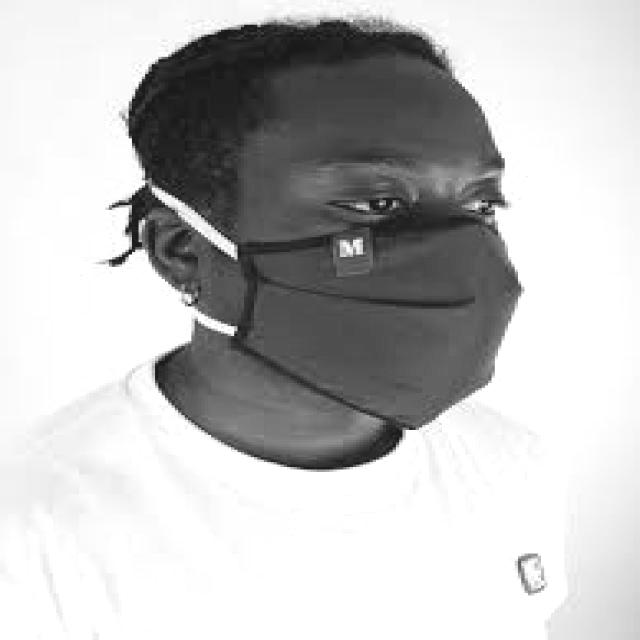fake: (178, 212, 552, 441)
real: (245, 62, 514, 423)
